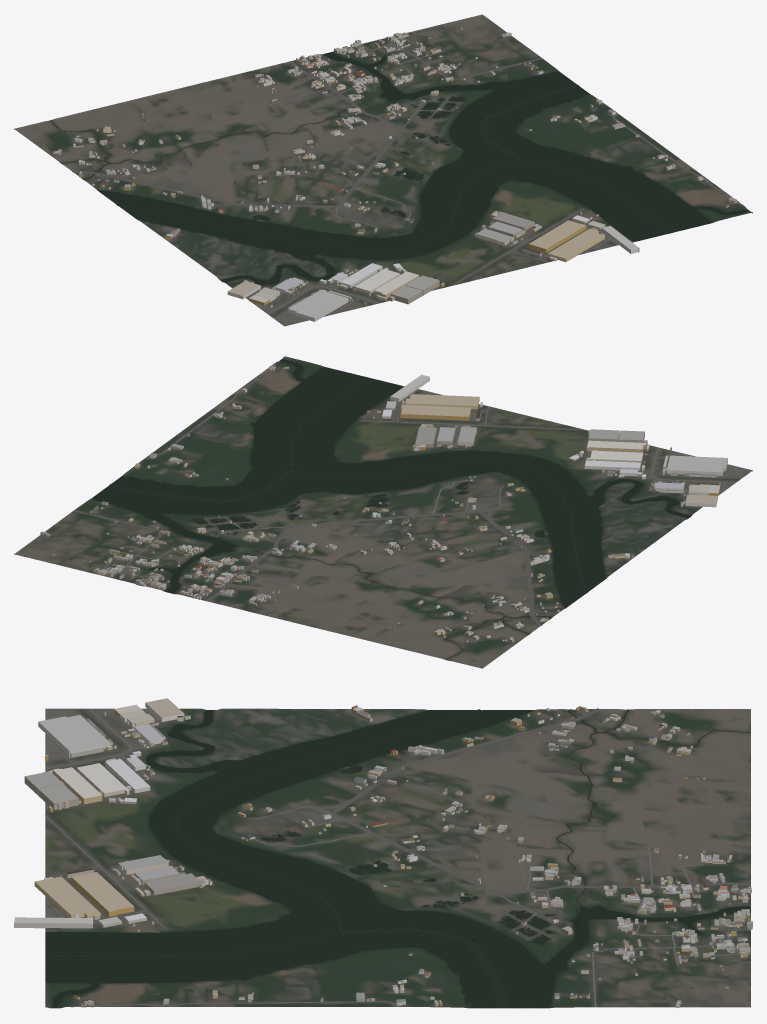
The picture shows the model from 3 angles, top to bottom: view 1: azimuth 30°, elevation 25°; view 2: azimuth 150°, elevation 25°; view 3: azimuth 270°, elevation 25°; orthographic projection. The views are drawn at different scales.
Visible parts, largest first — view 1: ground, water, buildings, roads; view 2: ground, water, buildings, roads; view 3: ground, water, buildings, roads.
Boxes of the visible parts, left/top/right/bottom form: ground: left=14, top=14, right=752, bottom=326; water: left=50, top=52, right=749, bottom=284; buildings: left=53, top=26, right=737, bottom=321; roads: left=72, top=38, right=742, bottom=322; ground: left=14, top=356, right=752, bottom=668; water: left=92, top=359, right=690, bottom=659; buildings: left=40, top=365, right=727, bottom=642; roads: left=73, top=363, right=741, bottom=626; ground: left=45, top=708, right=750, bottom=1008; water: left=45, top=709, right=750, bottom=1008; buildings: left=14, top=698, right=752, bottom=1007; roads: left=45, top=708, right=750, bottom=1007.
Bounding box in the file's own units: 1434 × 19.92 × 1467.
